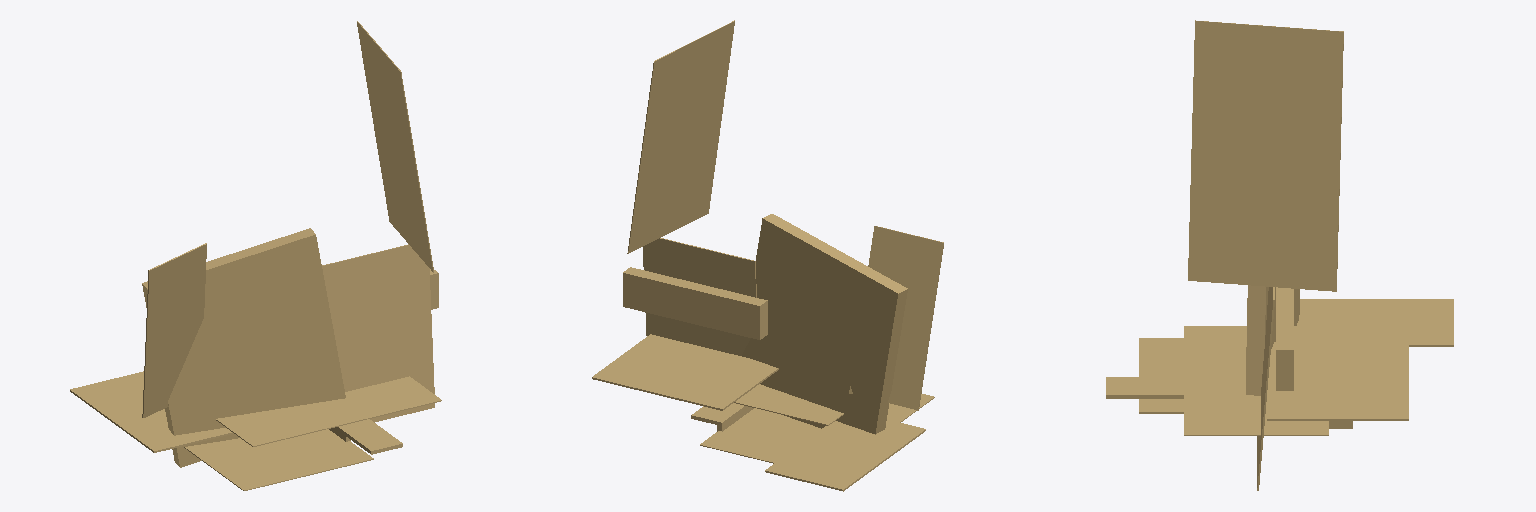
The robot description file, URDF, robot "evolved_design":
<?xml version="1.0" ?>
<robot name="evolved_design">
  <link name="base_link">
    <inertial>
      <mass value="0.001"/>
      <origin xyz="0 0 0" rpy="0 0 0"/>
      <inertia ixx="0.000001" ixy="0" ixz="0" iyy="0.000001" iyz="0" izz="0.000001"/>
    </inertial>
  </link>
  <link name="link_comp_0">
    <inertial>
      <mass value="0.601137"/>
      <origin xyz="0 0 0" rpy="0 0 0"/>
      <inertia ixx="0.009528798" ixy="0" ixz="0" iyy="0.000623806" iyz="0" izz="0.008941351"/>
    </inertial>
    <visual>
      <origin xyz="0 0 0" rpy="0 0 0"/>
      <geometry>
        <box size="0.019050 0.422050 0.109953"/>
      </geometry>
      <material name="link_comp_0_material">
        <color rgba="0.8 0.7 0.5 1"/>
      </material>
    </visual>
    <collision>
      <origin xyz="0 0 0" rpy="0 0 0"/>
      <geometry>
        <box size="0.019050 0.422050 0.109953"/>
      </geometry>
    </collision>
  </link>
  <joint name="base_link_to_link_comp_0" type="fixed">
    <parent link="base_link"/>
    <child link="link_comp_0"/>
    <origin xyz="0.009525 0.211025 0.054976" rpy="0.000000 0.000000 0.000000"/>
  </joint>
  <link name="link_comp_1">
    <inertial>
      <mass value="0.719914"/>
      <origin xyz="0 0 0" rpy="0 0 0"/>
      <inertia ixx="0.029328554" ixy="0" ixz="0" iyy="0.013645577" iyz="0" izz="0.042972921"/>
    </inertial>
    <visual>
      <origin xyz="0 0 0" rpy="0 0 0"/>
      <geometry>
        <box size="0.476910 0.699184 0.003175"/>
      </geometry>
      <material name="link_comp_1_material">
        <color rgba="0.8 0.7 0.5 1"/>
      </material>
    </visual>
    <collision>
      <origin xyz="0 0 0" rpy="0 0 0"/>
      <geometry>
        <box size="0.476910 0.699184 0.003175"/>
      </geometry>
    </collision>
  </link>
  <joint name="base_link_to_link_comp_1" type="fixed">
    <parent link="base_link"/>
    <child link="link_comp_1"/>
    <origin xyz="-0.224400 0.196016 0.043986" rpy="0.000000 0.000000 0.000000"/>
  </joint>
  <link name="link_comp_2">
    <inertial>
      <mass value="0.752391"/>
      <origin xyz="0 0 0" rpy="0 0 0"/>
      <inertia ixx="0.035443700" ixy="0" ixz="0" iyy="0.000852228" iyz="0" izz="0.036275702"/>
    </inertial>
    <visual>
      <origin xyz="0 0 0" rpy="0 0 0"/>
      <geometry>
        <box size="0.115892 0.751755 0.012700"/>
      </geometry>
      <material name="link_comp_2_material">
        <color rgba="0.8 0.7 0.5 1"/>
      </material>
    </visual>
    <collision>
      <origin xyz="0 0 0" rpy="0 0 0"/>
      <geometry>
        <box size="0.115892 0.751755 0.012700"/>
      </geometry>
    </collision>
  </link>
  <joint name="base_link_to_link_comp_2" type="fixed">
    <parent link="base_link"/>
    <child link="link_comp_2"/>
    <origin xyz="0.009355 0.131930 0.116803" rpy="0.000000 0.000000 0.000000"/>
  </joint>
  <link name="link_comp_3">
    <inertial>
      <mass value="0.775319"/>
      <origin xyz="0 0 0" rpy="0 0 0"/>
      <inertia ixx="0.020982424" ixy="0" ixz="0" iyy="0.032445728" iyz="0" izz="0.011466219"/>
    </inertial>
    <visual>
      <origin xyz="0 0 0" rpy="0 0 0"/>
      <geometry>
        <box size="0.421243 0.004750 0.569853"/>
      </geometry>
      <material name="link_comp_3_material">
        <color rgba="0.8 0.7 0.5 1"/>
      </material>
    </visual>
    <collision>
      <origin xyz="0 0 0" rpy="0 0 0"/>
      <geometry>
        <box size="0.421243 0.004750 0.569853"/>
      </geometry>
    </collision>
  </link>
  <joint name="base_link_to_link_comp_3" type="fixed">
    <parent link="base_link"/>
    <child link="link_comp_3"/>
    <origin xyz="0.210622 0.188619 0.284927" rpy="-0.076296 0.000000 0.000000"/>
  </joint>
  <link name="link_comp_4">
    <inertial>
      <mass value="12.900897"/>
      <origin xyz="0 0 0" rpy="0 0 0"/>
      <inertia ixx="0.464353011" ixy="0" ixz="0" iyy="0.822104600" iyz="0" izz="0.363126962"/>
    </inertial>
    <visual>
      <origin xyz="0 0 0" rpy="0 0 0"/>
      <geometry>
        <box size="0.579024 0.050000 0.655306"/>
      </geometry>
      <material name="link_comp_4_material">
        <color rgba="0.8 0.7 0.5 1"/>
      </material>
    </visual>
    <collision>
      <origin xyz="0 0 0" rpy="0 0 0"/>
      <geometry>
        <box size="0.579024 0.050000 0.655306"/>
      </geometry>
    </collision>
  </link>
  <joint name="base_link_to_link_comp_4" type="fixed">
    <parent link="base_link"/>
    <child link="link_comp_4"/>
    <origin xyz="-0.247528 0.210439 0.347075" rpy="0.008972 -0.173221 -0.166623"/>
  </joint>
  <link name="link_comp_5">
    <inertial>
      <mass value="0.805765"/>
      <origin xyz="0 0 0" rpy="0 0 0"/>
      <inertia ixx="0.009749813" ixy="0" ixz="0" iyy="0.016110251" iyz="0" izz="0.025854649"/>
    </inertial>
    <visual>
      <origin xyz="0 0 0" rpy="0 0 0"/>
      <geometry>
        <box size="0.489780 0.380999 0.006350"/>
      </geometry>
      <material name="link_comp_5_material">
        <color rgba="0.8 0.7 0.5 1"/>
      </material>
    </visual>
    <collision>
      <origin xyz="0 0 0" rpy="0 0 0"/>
      <geometry>
        <box size="0.489780 0.380999 0.006350"/>
      </geometry>
    </collision>
  </link>
  <joint name="base_link_to_link_comp_5" type="fixed">
    <parent link="base_link"/>
    <child link="link_comp_5"/>
    <origin xyz="0.157400 0.381994 0.203558" rpy="0.000000 0.000000 0.000000"/>
  </joint>
  <link name="link_comp_6">
    <inertial>
      <mass value="0.641104"/>
      <origin xyz="0 0 0" rpy="0 0 0"/>
      <inertia ixx="0.037302975" ixy="0" ixz="0" iyy="0.028460161" iyz="0" izz="0.008843891"/>
    </inertial>
    <visual>
      <origin xyz="0 0 0" rpy="0 0 0"/>
      <geometry>
        <box size="0.003175 0.406851 0.729862"/>
      </geometry>
      <material name="link_comp_6_material">
        <color rgba="0.8 0.7 0.5 1"/>
      </material>
    </visual>
    <collision>
      <origin xyz="0 0 0" rpy="0 0 0"/>
      <geometry>
        <box size="0.003175 0.406851 0.729862"/>
      </geometry>
    </collision>
  </link>
  <joint name="base_link_to_link_comp_6" type="fixed">
    <parent link="base_link"/>
    <child link="link_comp_6"/>
    <origin xyz="0.288785 0.188091 0.935285" rpy="0.000000 -0.153479 -0.174028"/>
  </joint>
  <link name="link_comp_7">
    <inertial>
      <mass value="0.630815"/>
      <origin xyz="0 0 0" rpy="0 0 0"/>
      <inertia ixx="0.008021506" ixy="0" ixz="0" iyy="0.025216287" iyz="0" izz="0.033236557"/>
    </inertial>
    <visual>
      <origin xyz="0 0 0" rpy="0 0 0"/>
      <geometry>
        <box size="0.692588 0.390617 0.003429"/>
      </geometry>
      <material name="link_comp_7_material">
        <color rgba="0.8 0.7 0.5 1"/>
      </material>
    </visual>
    <collision>
      <origin xyz="0 0 0" rpy="0 0 0"/>
      <geometry>
        <box size="0.692588 0.390617 0.003429"/>
      </geometry>
    </collision>
  </link>
  <joint name="base_link_to_link_comp_7" type="fixed">
    <parent link="base_link"/>
    <child link="link_comp_7"/>
    <origin xyz="-0.012932 0.162966 0.125367" rpy="0.000000 0.000000 0.000000"/>
  </joint>
  <link name="link_comp_8">
    <inertial>
      <mass value="0.447775"/>
      <origin xyz="0 0 0" rpy="0 0 0"/>
      <inertia ixx="0.012396450" ixy="0" ixz="0" iyy="0.014554545" iyz="0" izz="0.002159779"/>
    </inertial>
    <visual>
      <origin xyz="0 0 0" rpy="0 0 0"/>
      <geometry>
        <box size="0.240536 0.004750 0.576361"/>
      </geometry>
      <material name="link_comp_8_material">
        <color rgba="0.8 0.7 0.5 1"/>
      </material>
    </visual>
    <collision>
      <origin xyz="0 0 0" rpy="0 0 0"/>
      <geometry>
        <box size="0.240536 0.004750 0.576361"/>
      </geometry>
    </collision>
  </link>
  <joint name="base_link_to_link_comp_8" type="fixed">
    <parent link="base_link"/>
    <child link="link_comp_8"/>
    <origin xyz="-0.517662 0.190276 0.478395" rpy="0.163160 -0.094604 0.177872"/>
  </joint>
  <link name="link_comp_9">
    <inertial>
      <mass value="2.129980"/>
      <origin xyz="0 0 0" rpy="0 0 0"/>
      <inertia ixx="0.003086870" ixy="0" ixz="0" iyy="0.049423584" iyz="0" izz="0.047224206"/>
    </inertial>
    <visual>
      <origin xyz="0 0 0" rpy="0 0 0"/>
      <geometry>
        <box size="0.513375 0.050000 0.122029"/>
      </geometry>
      <material name="link_comp_9_material">
        <color rgba="0.8 0.7 0.5 1"/>
      </material>
    </visual>
    <collision>
      <origin xyz="0 0 0" rpy="0 0 0"/>
      <geometry>
        <box size="0.513375 0.050000 0.122029"/>
      </geometry>
    </collision>
  </link>
  <joint name="base_link_to_link_comp_9" type="fixed">
    <parent link="base_link"/>
    <child link="link_comp_9"/>
    <origin xyz="0.206978 0.239575 0.380747" rpy="0.000000 0.000000 0.000000"/>
  </joint>
  <link name="link_comp_10">
    <inertial>
      <mass value="0.681705"/>
      <origin xyz="0 0 0" rpy="0 0 0"/>
      <inertia ixx="0.016380963" ixy="0" ixz="0" iyy="0.004913390" iyz="0" izz="0.021289772"/>
    </inertial>
    <visual>
      <origin xyz="0 0 0" rpy="0 0 0"/>
      <geometry>
        <box size="0.294023 0.536947 0.006350"/>
      </geometry>
      <material name="link_comp_10_material">
        <color rgba="0.8 0.7 0.5 1"/>
      </material>
    </visual>
    <collision>
      <origin xyz="0 0 0" rpy="0 0 0"/>
      <geometry>
        <box size="0.294023 0.536947 0.006350"/>
      </geometry>
    </collision>
  </link>
  <joint name="base_link_to_link_comp_10" type="fixed">
    <parent link="base_link"/>
    <child link="link_comp_10"/>
    <origin xyz="-0.463609 0.427298 0.087714" rpy="0.000000 0.000000 0.000000"/>
  </joint>
</robot>

--- Facts derived from the render (not from the file) ---
Views: 3 orthographic renders of the robot side by side, from view 1: azimuth 30°, elevation 25°; view 2: azimuth 150°, elevation 25°; view 3: azimuth 270°, elevation 25°.
Model evolved_design with 12 links and 11 joints (11 fixed), rooted at base_link, posed all joints at 0.
Links seen in each view (by area): view 1: link_comp_4, link_comp_3, link_comp_6, link_comp_8, link_comp_1, link_comp_7, link_comp_10, link_comp_2; view 2: link_comp_4, link_comp_6, link_comp_5, link_comp_8, link_comp_3, link_comp_9, link_comp_10, link_comp_1, link_comp_7, link_comp_2; view 3: link_comp_6, link_comp_5, link_comp_7, link_comp_10, link_comp_1, link_comp_4, link_comp_9, link_comp_2, link_comp_3.
Boxes of the visible links, x1=… form: link_comp_4: x1=142, y1=228, x2=345, y2=467; link_comp_3: x1=322, y1=244, x2=434, y2=422; link_comp_6: x1=357, y1=21, x2=433, y2=272; link_comp_8: x1=142, y1=243, x2=206, y2=417; link_comp_1: x1=184, y1=429, x2=373, y2=490; link_comp_7: x1=216, y1=376, x2=441, y2=446; link_comp_10: x1=70, y1=371, x2=233, y2=452; link_comp_2: x1=335, y1=419, x2=402, y2=454; link_comp_4: x1=742, y1=214, x2=907, y2=434; link_comp_6: x1=627, y1=20, x2=734, y2=253; link_comp_5: x1=592, y1=334, x2=778, y2=410; link_comp_8: x1=849, y1=226, x2=943, y2=410; link_comp_3: x1=643, y1=238, x2=756, y2=355; link_comp_9: x1=623, y1=267, x2=767, y2=339; link_comp_10: x1=765, y1=420, x2=925, y2=491; link_comp_1: x1=700, y1=394, x2=934, y2=463; link_comp_7: x1=734, y1=384, x2=843, y2=425; link_comp_2: x1=691, y1=403, x2=747, y2=425; link_comp_6: x1=1188, y1=20, x2=1343, y2=291; link_comp_5: x1=1267, y1=342, x2=1408, y2=420; link_comp_7: x1=1184, y1=326, x2=1328, y2=435; link_comp_10: x1=1297, y1=299, x2=1453, y2=346; link_comp_1: x1=1139, y1=338, x2=1183, y2=413; link_comp_4: x1=1246, y1=285, x2=1299, y2=395; link_comp_9: x1=1276, y1=287, x2=1293, y2=390; link_comp_2: x1=1106, y1=377, x2=1183, y2=398; link_comp_3: x1=1257, y1=287, x2=1274, y2=490.
Bounding box of the posed robot: 1.12 × 0.9397 × 1.32 m (x, y, z).
Geometry: primitives only (box / cylinder / sphere), no mesh files.